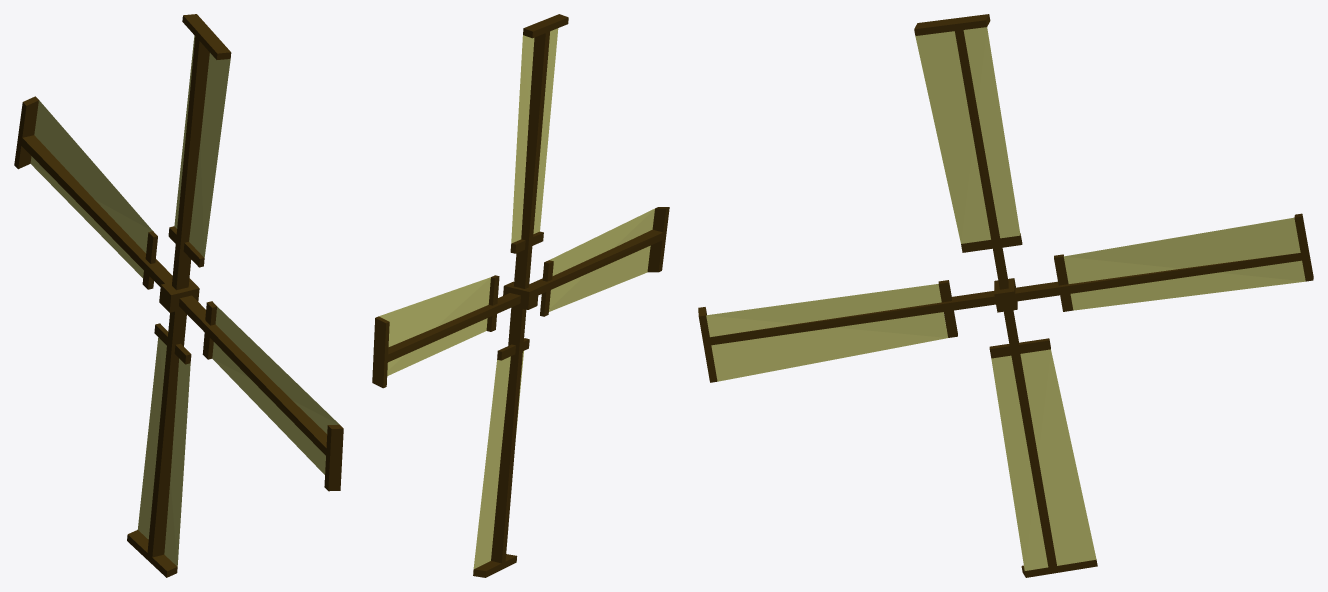
Rendered from sails0002.obj.
The picture shows the model from 3 angles, left to right: view 1: azimuth 30°, elevation 25°; view 2: azimuth 150°, elevation 25°; view 3: azimuth 270°, elevation 25°; orthographic projection. The views are drawn at different scales.
Parts seen in each view (by area): view 1: Sails_Mesh; view 2: Sails_Mesh; view 3: Sails_Mesh.
Part boxes in pixels (bbox=[...]): Sails_Mesh: bbox=[14, 14, 343, 577]; Sails_Mesh: bbox=[372, 14, 669, 577]; Sails_Mesh: bbox=[698, 14, 1313, 577].
Size of the model in its own units: 0.5135 by 9.93 by 9.92.
